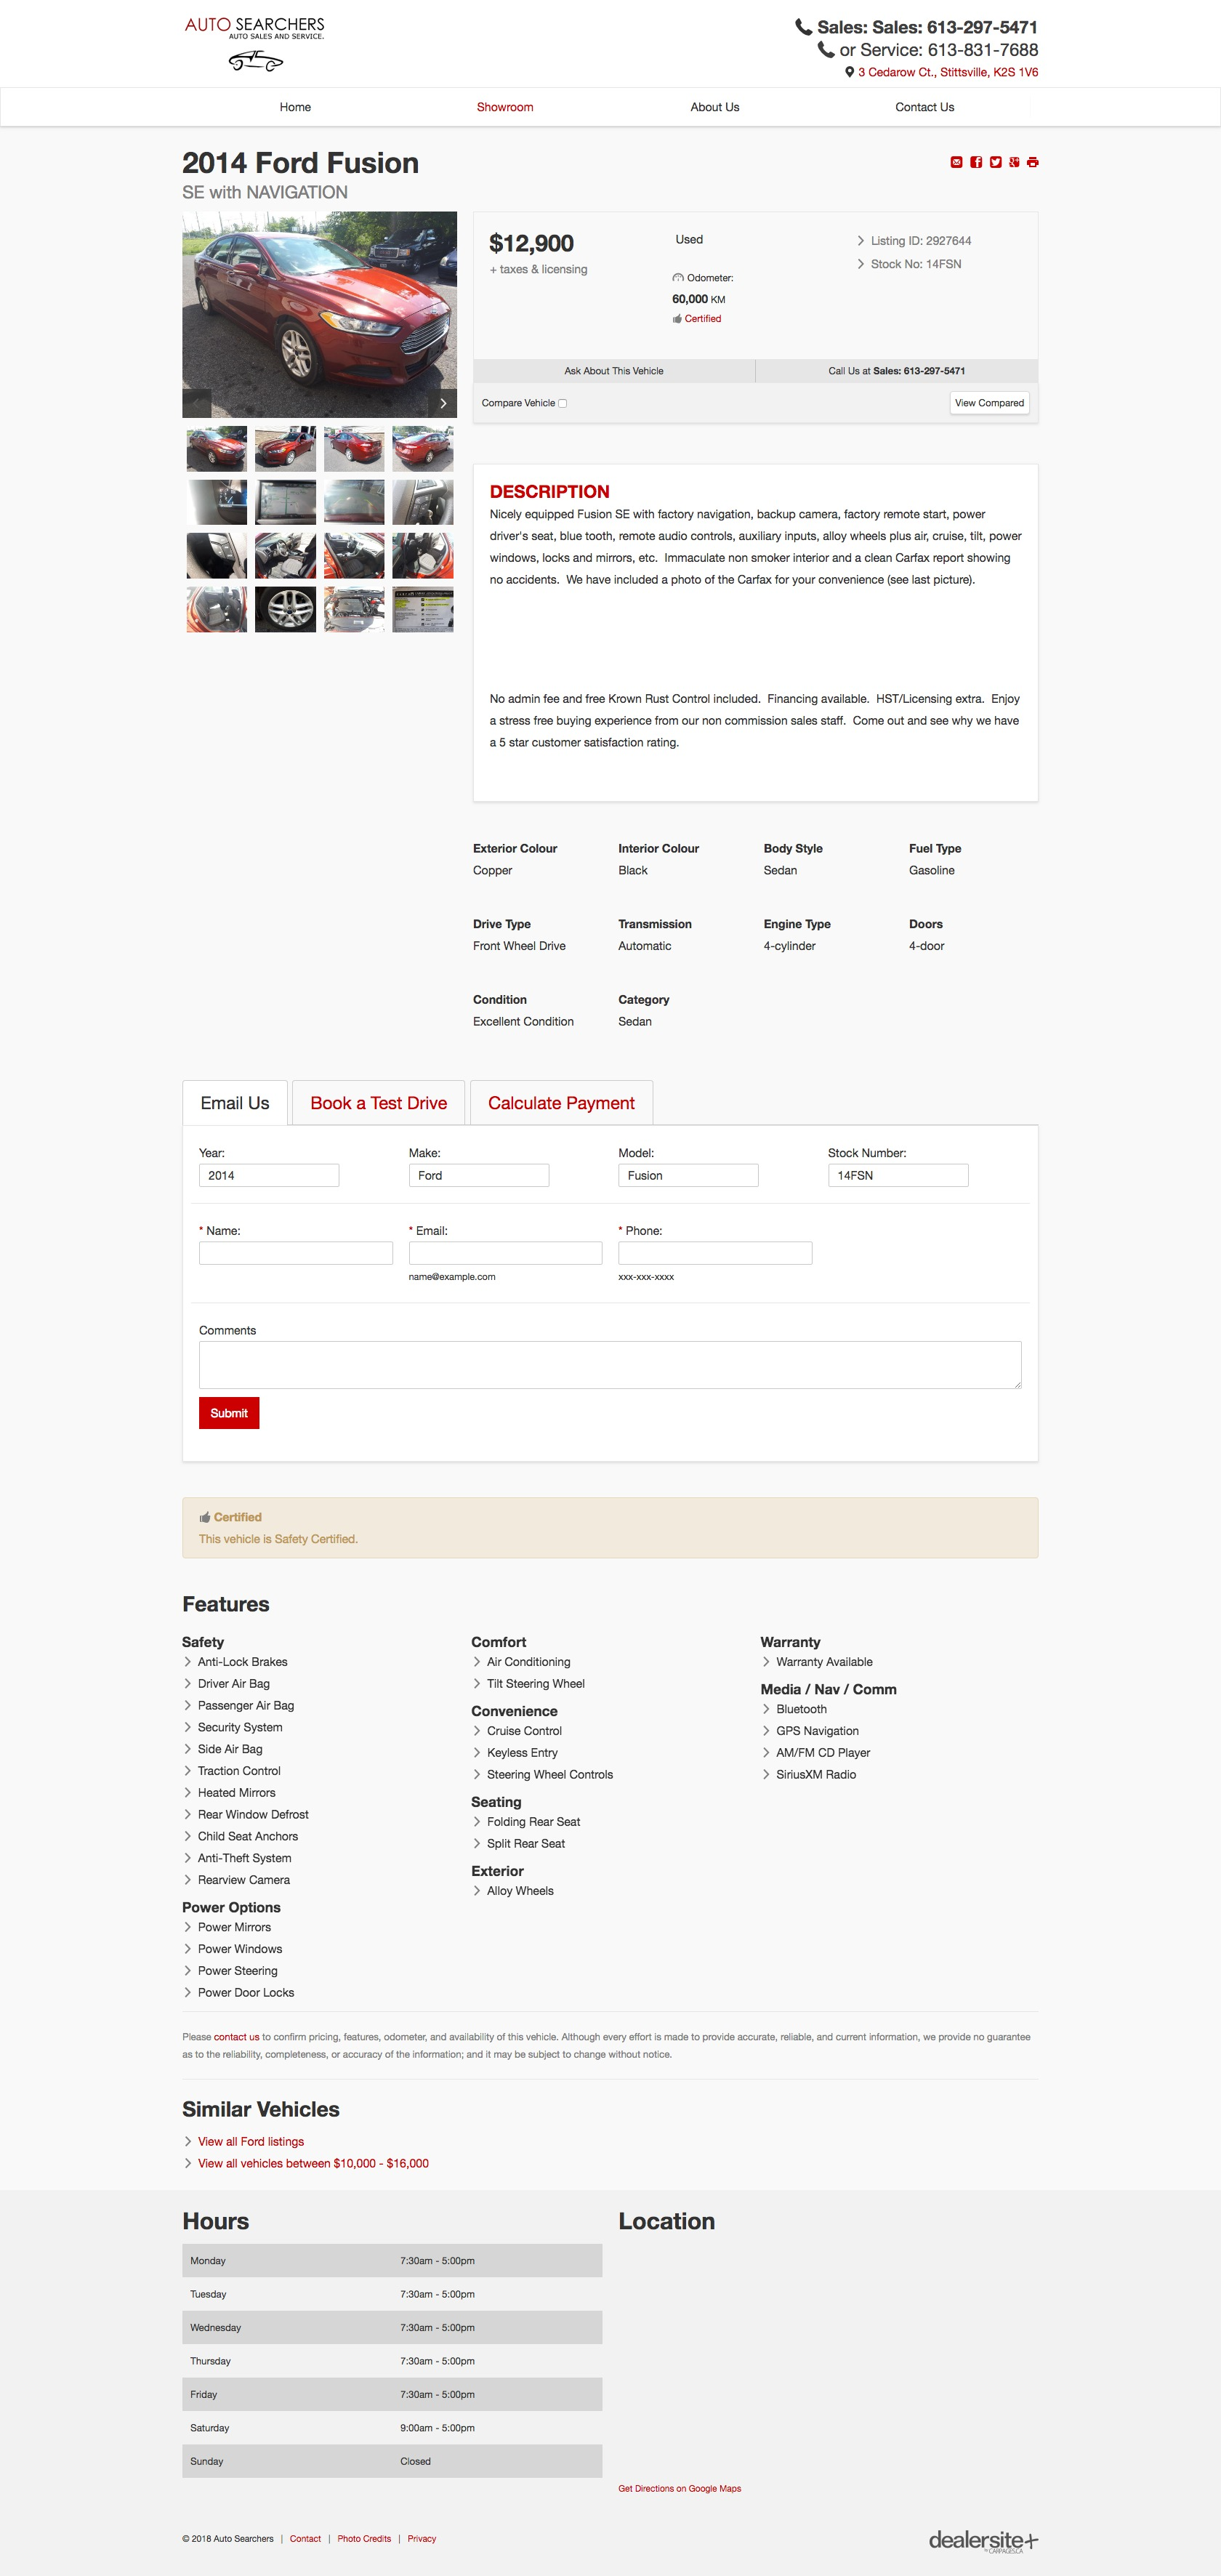car: (427, 389, 460, 421)
